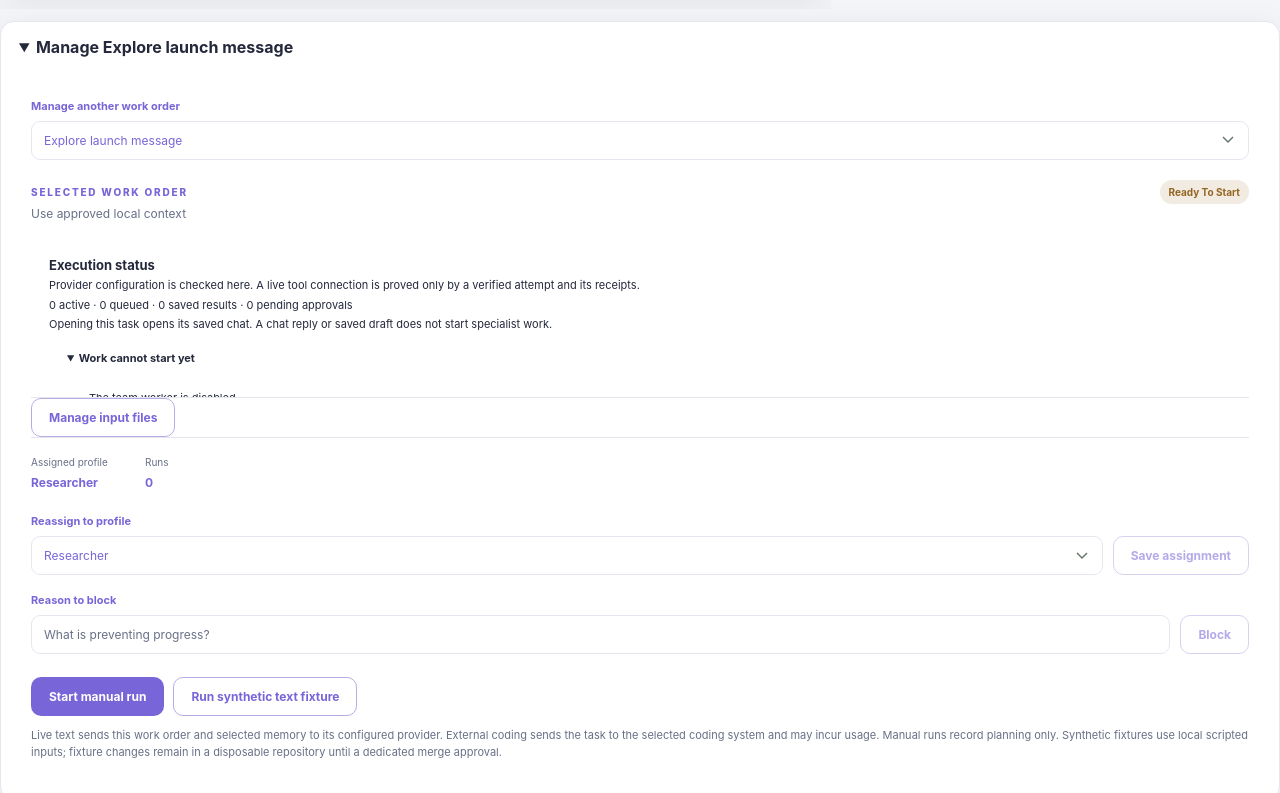
Scenario: keeps a 409 conflict visible and does not retry a synthetic write
(page scrolled)
Click the button "Run synthetic text fixture" at (265,697), box [173,677,358,716]
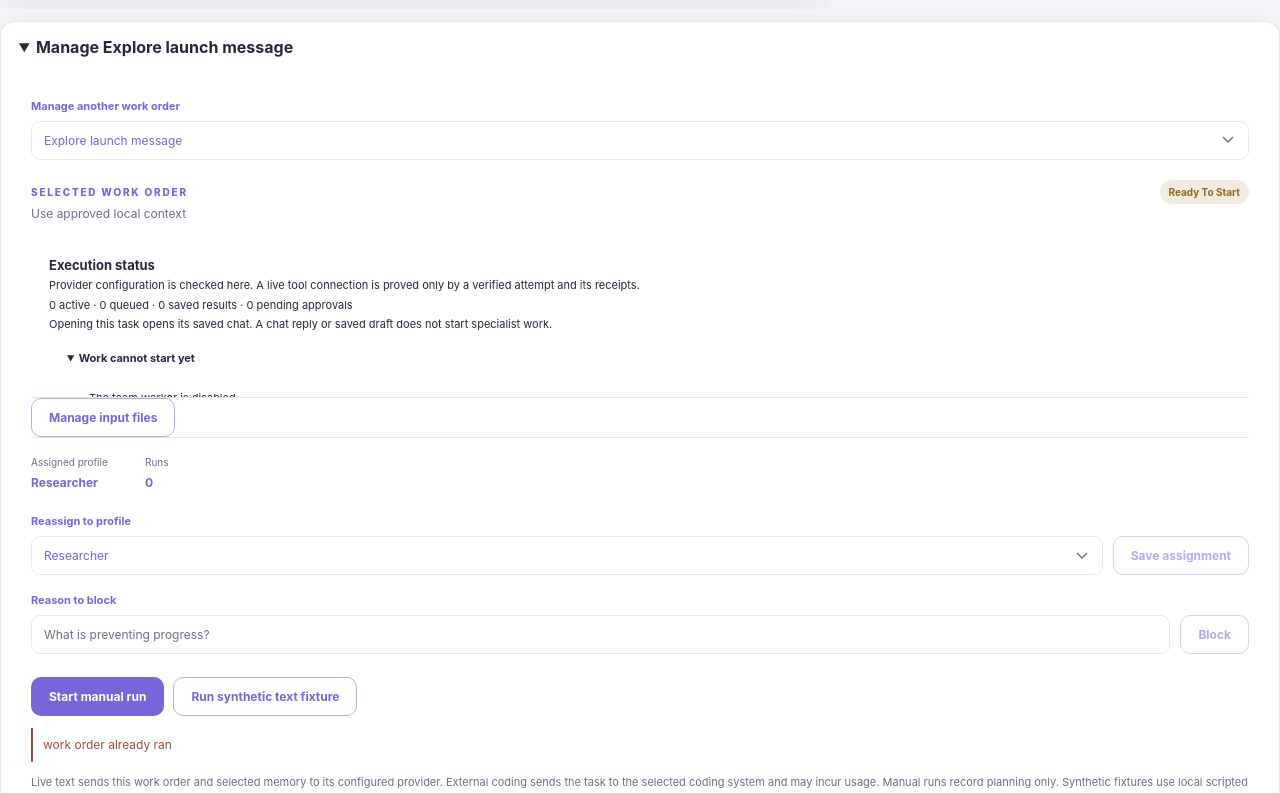
expect the message reads "work order already ran": met, box [43,737,172,752]
